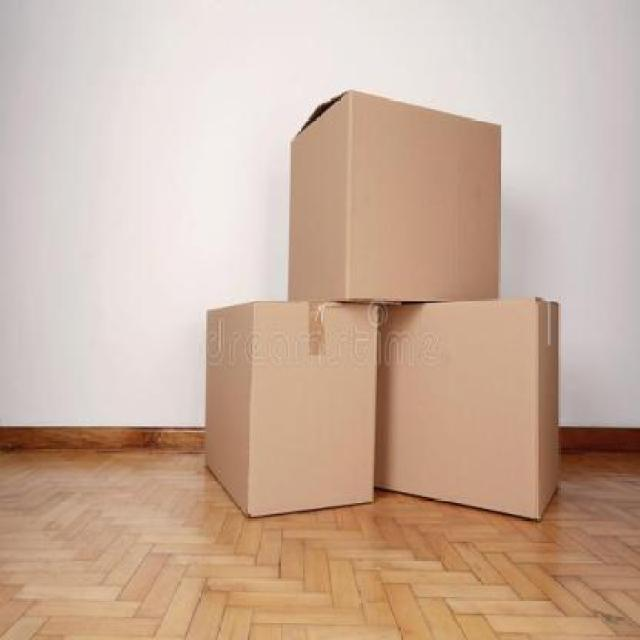cardboxes: (286, 88, 500, 303), (365, 294, 561, 518), (204, 298, 373, 517)
